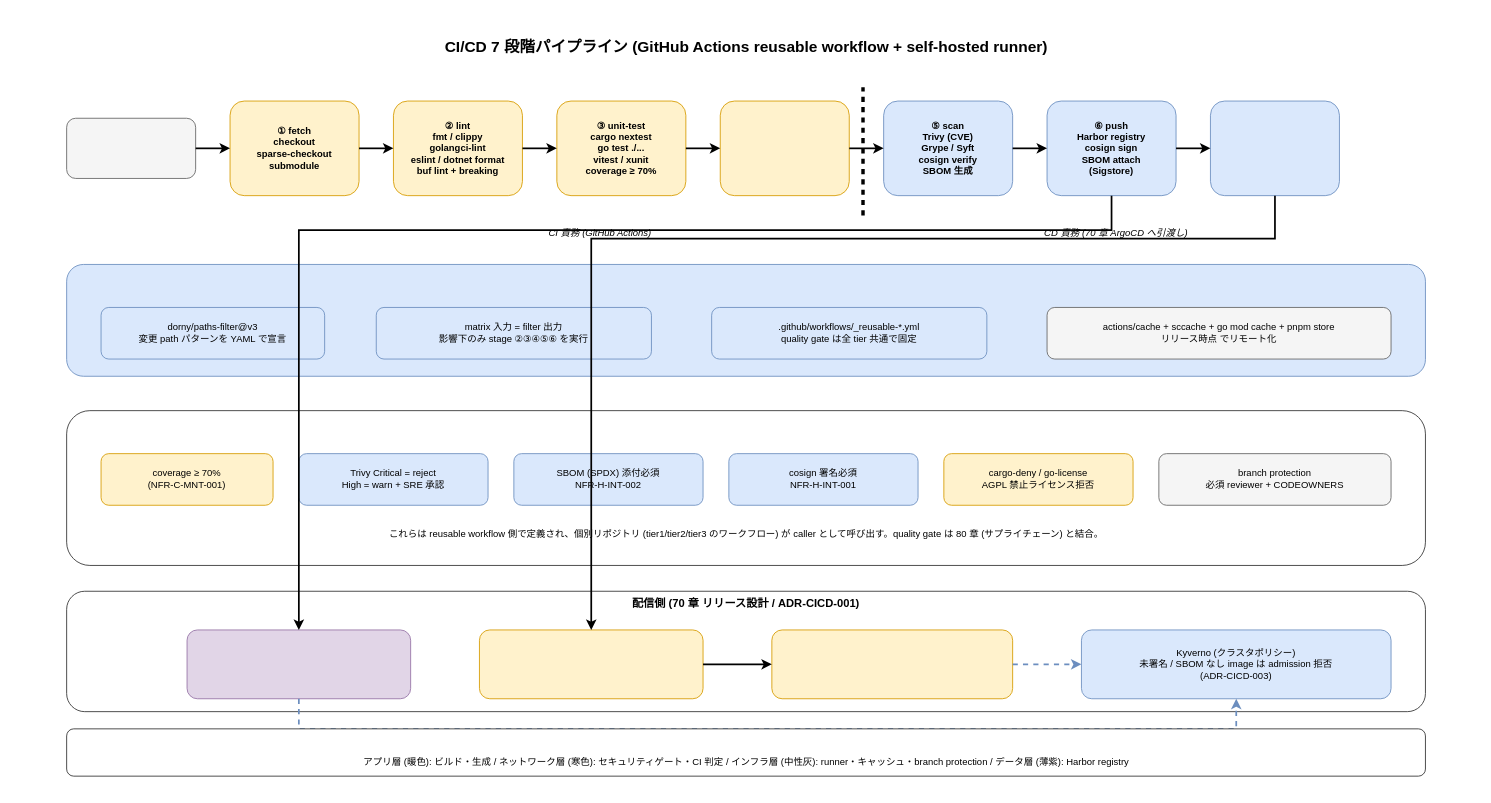
Some shapes in this 1491 by 803 pixel diagram are drawn without their labels. The shapes that lost their labels are listed below. From the top down, each one's box as (x1, y1, x2, y2) in pixels, then its label:
(66, 117, 196, 178): PR open / push to main / release/*
(719, 100, 849, 196): ④ build cargo build --release go build -trimpath Docker buildx multi-arch
(1210, 100, 1339, 196): ⑦ GitOps 更新 image tag PR → deploy/apps/ ArgoCD image-updater (opt-in)
(66, 264, 1425, 376): path-filter による selective 実行 (IMP-BUILD-POL-004 / IMP-CI-POL-002)
(66, 410, 1425, 565): Quality Gate (MUST扱い / 例外は ADR 必須)
(186, 629, 411, 699): Harbor Registry (インターナル) 署名済みイメージを保管
(479, 629, 703, 699): ArgoCD Git = 真実源 manifest 差分検出 + sync
(771, 629, 1013, 699): Argo Rollouts Canary AnalysisTemplate (SLI 連動) → 60 章 観測性
(66, 728, 1425, 776): 凡例
